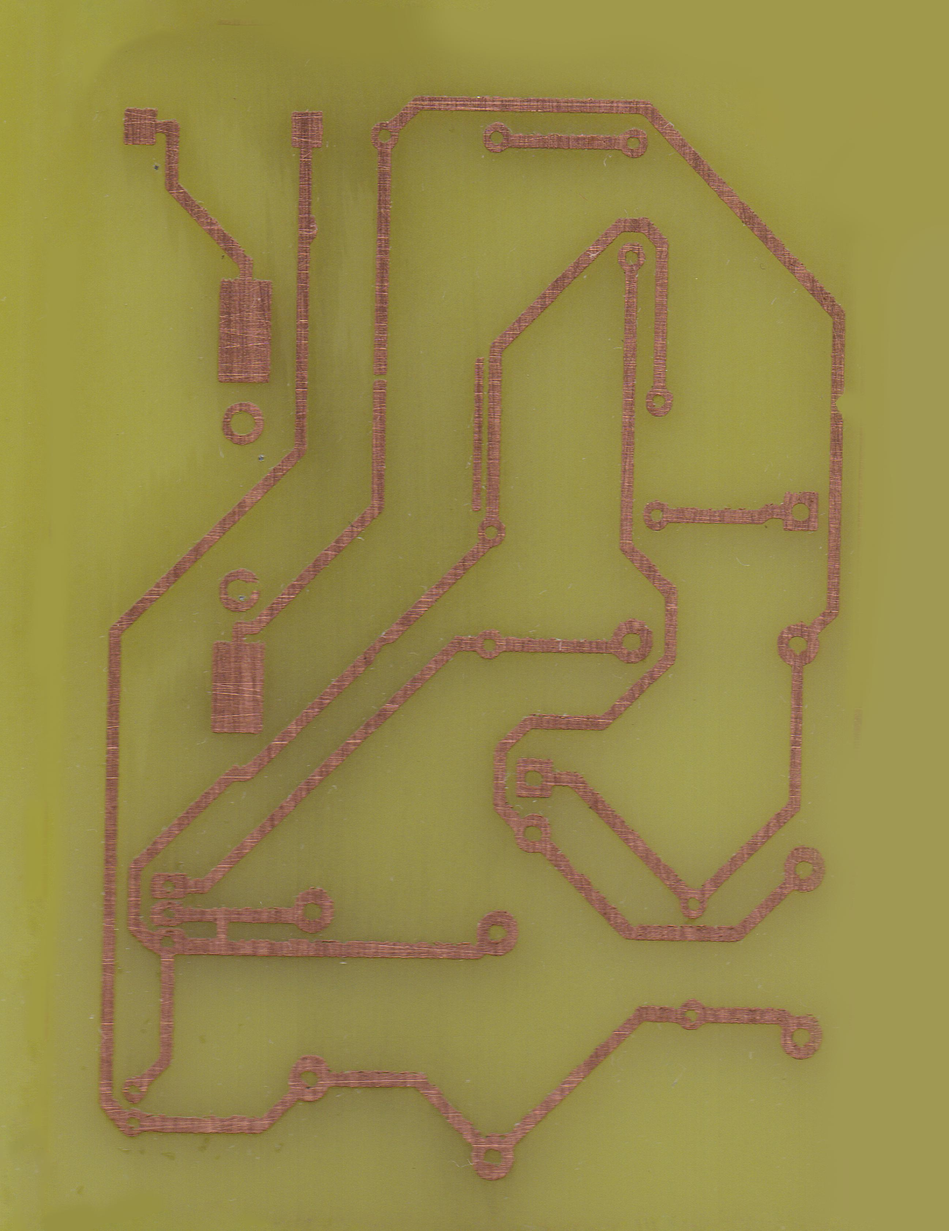missing_hole: (217, 569, 268, 613)
mouse_bite: (825, 390, 848, 424)
open_circuit: (367, 362, 395, 388)
short: (205, 904, 238, 962)
spur: (295, 213, 322, 245), (173, 463, 248, 470)
spurious_copper: (471, 352, 485, 510)
